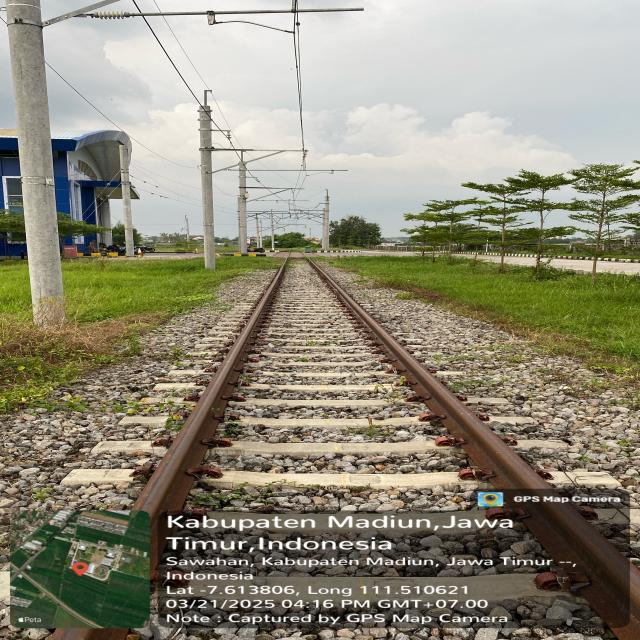rail-detection: (308, 260, 640, 637), (132, 266, 284, 570)
